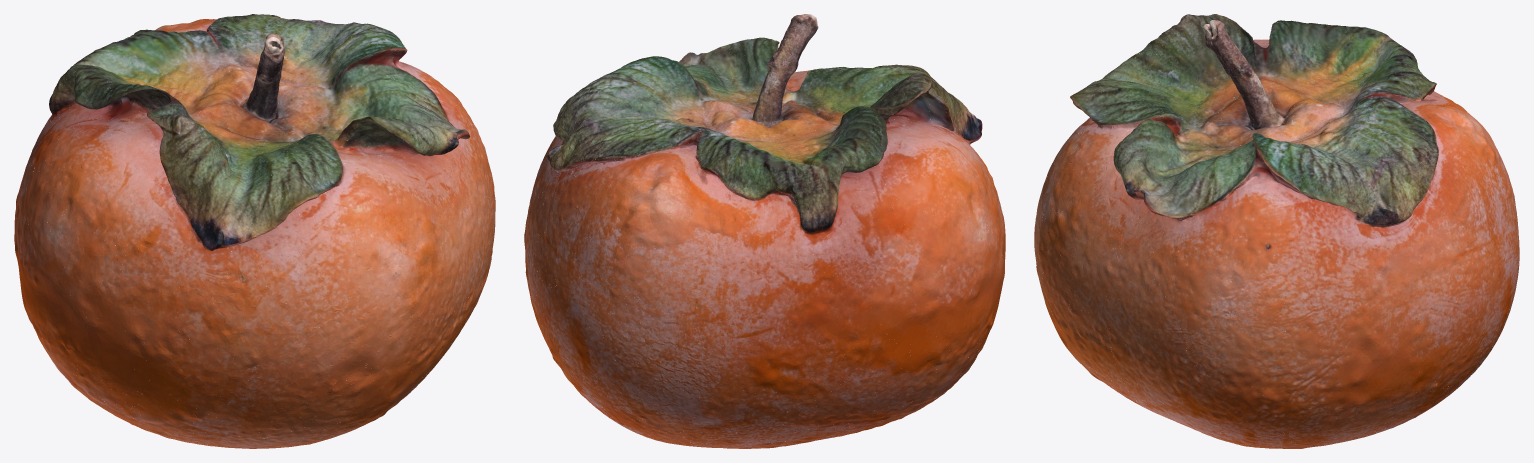
Rendered from persimmon-optimized.glb.
The picture shows the model from 3 angles, left to right: view 1: azimuth 30°, elevation 25°; view 2: azimuth 150°, elevation 25°; view 3: azimuth 270°, elevation 25°; orthographic projection. The views are drawn at different scales.
Size of the model in its own units: 0.0527 by 0.0457 by 0.0523.
Materials: 2 (2 with a texture image).
